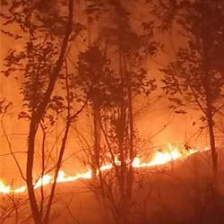fire: (1, 146, 212, 192)
